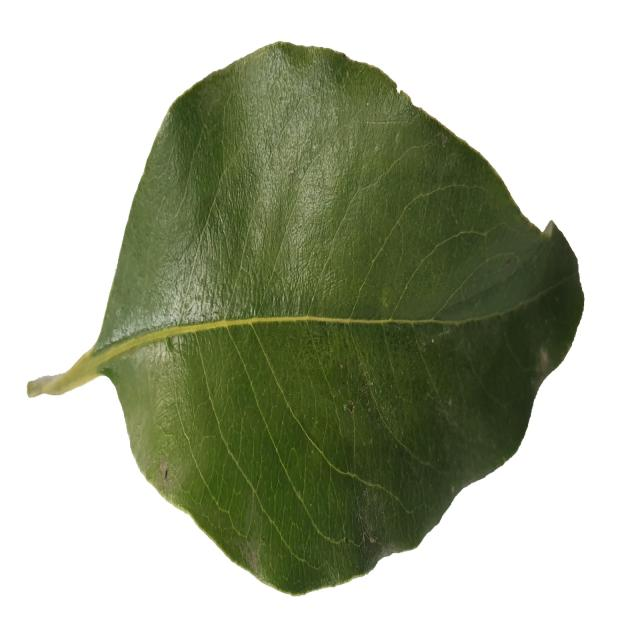Medicinal-Sandalwood: (26, 41, 583, 594)
